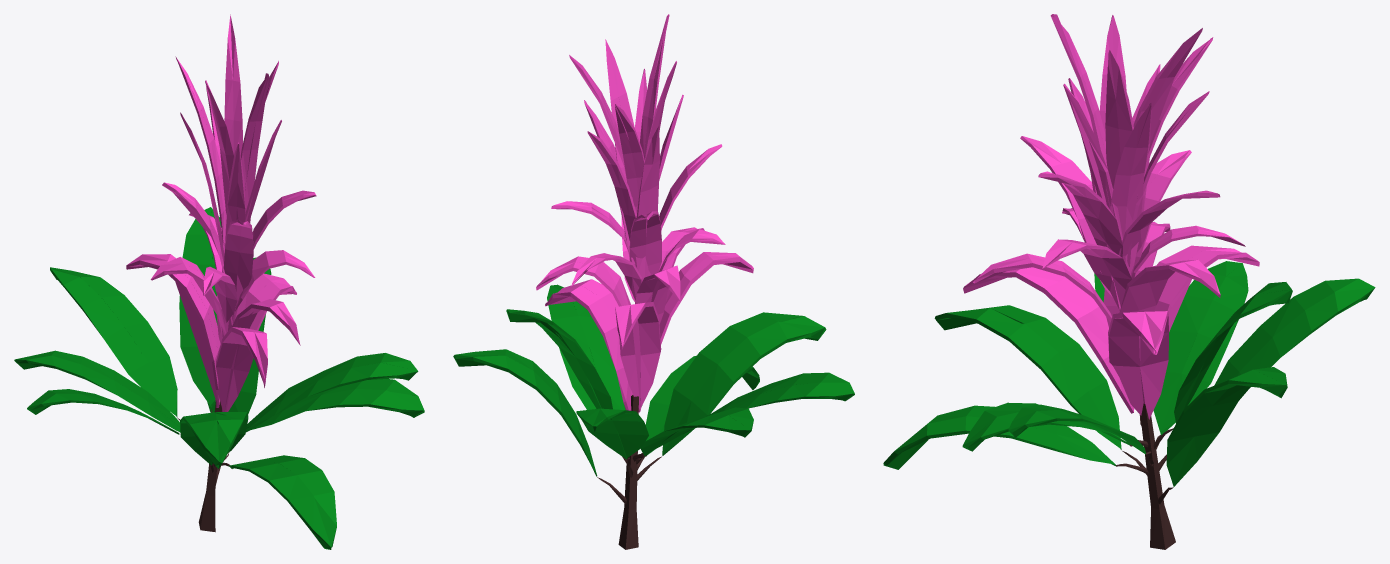
The model's file is ShrubPinkFlower04.fbx.
3 views of the same model, side by side, from view 1: azimuth 30°, elevation 25°; view 2: azimuth 150°, elevation 25°; view 3: azimuth 270°, elevation 25° (orthographic). The views are drawn at different scales.
Visible parts, largest first — view 1: ShrubPinkFlower04_LOD0; view 2: ShrubPinkFlower04_LOD0; view 3: ShrubPinkFlower04_LOD0.
Boxes of the visible parts, box(x1,y1,x2,y2) form: ShrubPinkFlower04_LOD0: box(14, 14, 424, 549); ShrubPinkFlower04_LOD0: box(453, 14, 854, 549); ShrubPinkFlower04_LOD0: box(883, 14, 1375, 549).
Size of what is drawn, in the model's own units: 107 by 146 by 121.
